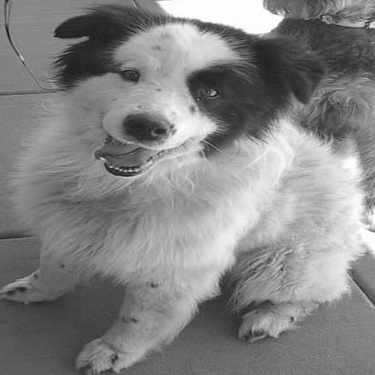dog: (5, 1, 338, 361)
